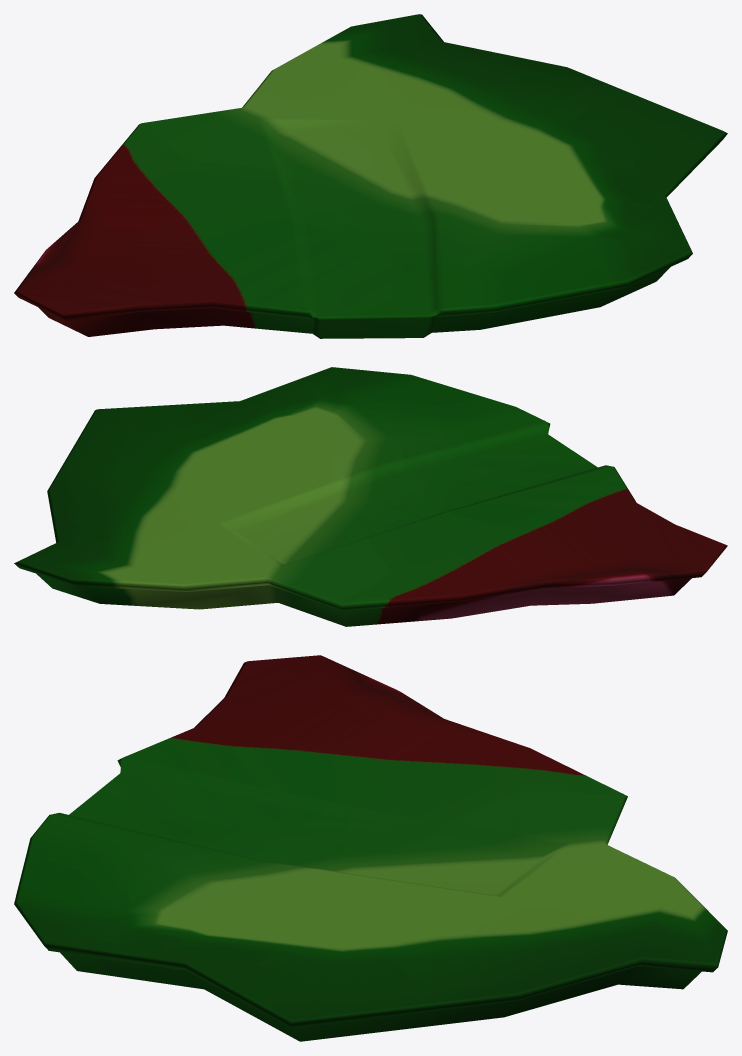
File: SM_Platform_Portal_01.fbx
The picture shows the model from 3 angles, top to bottom: view 1: azimuth 30°, elevation 25°; view 2: azimuth 150°, elevation 25°; view 3: azimuth 270°, elevation 25°; orthographic projection. The views are drawn at different scales.
Visible parts, largest first — view 1: SM_Platform_Portal_01; view 2: SM_Platform_Portal_01; view 3: SM_Platform_Portal_01.
Part boxes in pixels (<box>): SM_Platform_Portal_01: <box>14,14,727,338</box>; SM_Platform_Portal_01: <box>14,367,727,626</box>; SM_Platform_Portal_01: <box>14,655,727,1041</box>.
Bounding box in the file's own units: 2838 × 145 × 2328.
